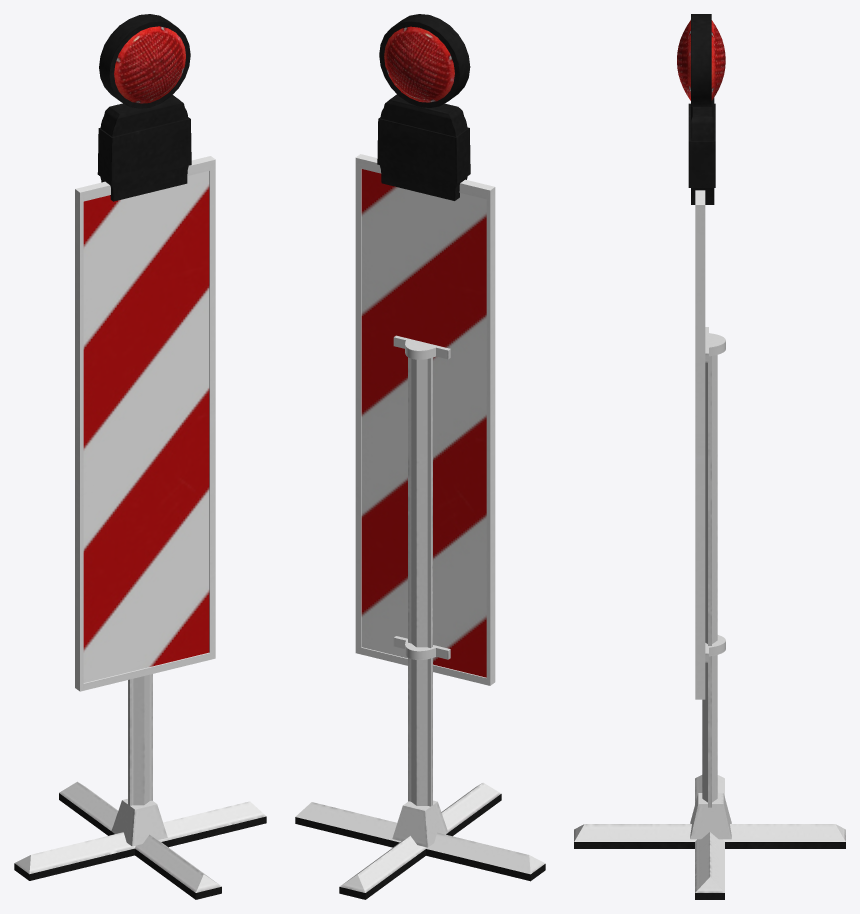
File: traffic-cone-10.glb
The picture shows the model from 3 angles, left to right: view 1: azimuth 30°, elevation 25°; view 2: azimuth 150°, elevation 25°; view 3: azimuth 270°, elevation 25°; orthographic projection.
Parts seen in each view (by area): view 1: Object_100; view 2: Object_100; view 3: Object_100.
Part boxes in pixels (left/top/right/bottom): Object_100: left=14, top=14, right=266, bottom=899; Object_100: left=295, top=14, right=545, bottom=899; Object_100: left=574, top=14, right=845, bottom=899.
Bounding box in the file's own units: 0.3437 × 1.15 × 0.3437.
Materials: 1 (1 with a texture image).
